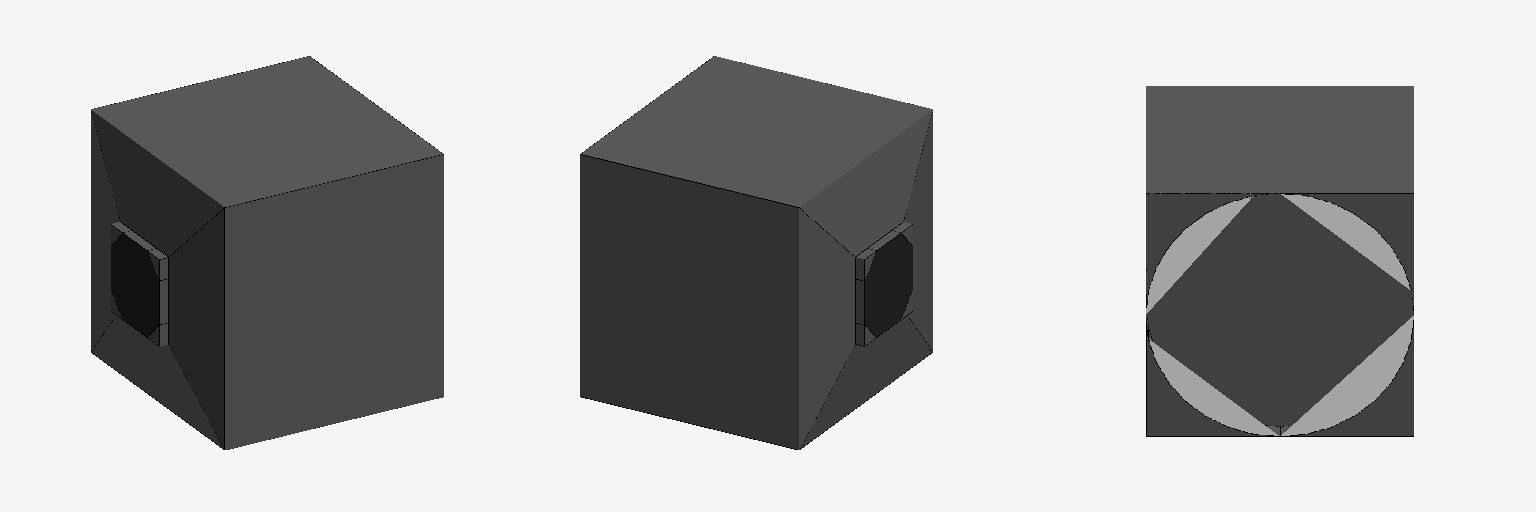
The picture shows the model from 3 angles: view 1: azimuth 30°, elevation 25°; view 2: azimuth 150°, elevation 25°; view 3: azimuth 270°, elevation 25°; orthographic projection.
Parts seen in each view (by area): view 1: wheel_block_Cube.001; view 2: wheel_block_Cube.001; view 3: wheel_block_Cube.001.
Part boxes in pixels (x1,y1,x2,y2): wheel_block_Cube.001: (91,56,443,449); wheel_block_Cube.001: (580,56,932,449); wheel_block_Cube.001: (1146,86,1413,436).
Size of the model in its own units: 2.08 by 2 by 2.
Materials: 1 (1 with a texture image).